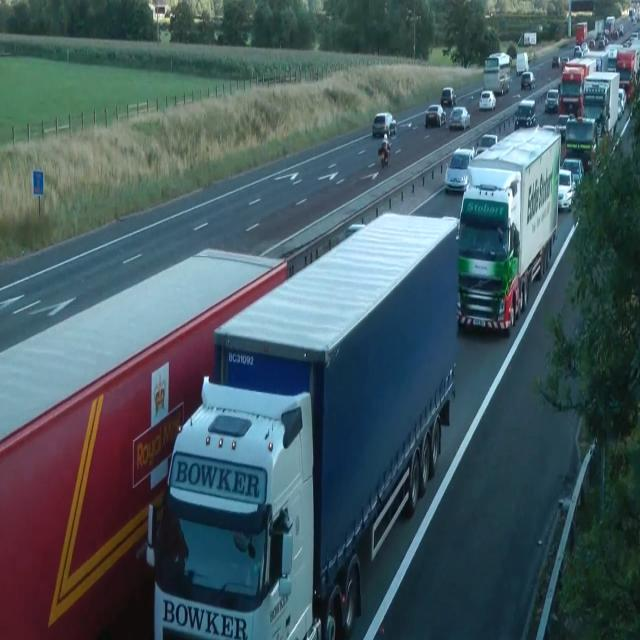bus: (444, 147, 474, 193), (557, 169, 575, 211), (371, 112, 397, 138), (562, 157, 584, 187), (514, 99, 536, 128), (554, 114, 576, 141), (448, 106, 470, 130), (424, 104, 446, 127), (475, 134, 497, 156), (478, 90, 496, 110), (440, 86, 456, 107), (544, 88, 558, 112), (520, 71, 536, 90), (618, 87, 626, 119), (573, 42, 589, 58), (559, 56, 569, 69), (617, 23, 624, 37), (552, 56, 560, 68), (484, 12, 492, 18)
car: (145, 210, 459, 638), (0, 244, 288, 638)
lorry: (378, 141, 390, 167)
minibus: (456, 123, 561, 336), (580, 70, 620, 142), (563, 114, 598, 172), (483, 52, 511, 95), (516, 51, 528, 76), (517, 31, 537, 46), (575, 22, 587, 44)
